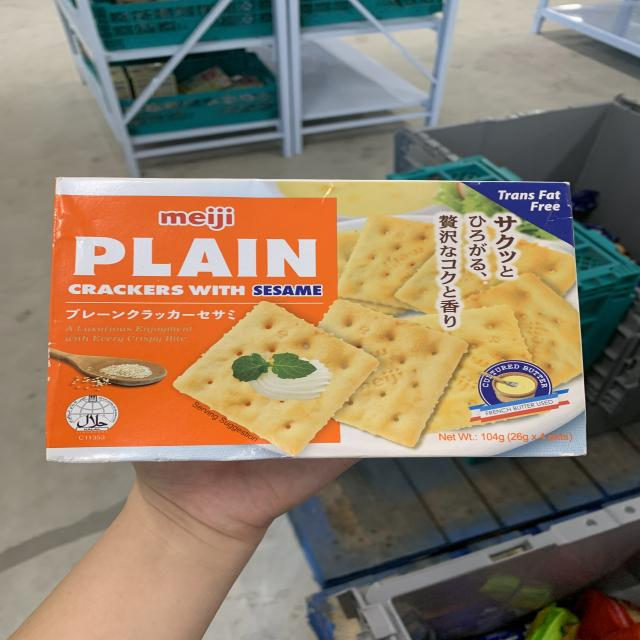object_name: (53, 179, 580, 454)
